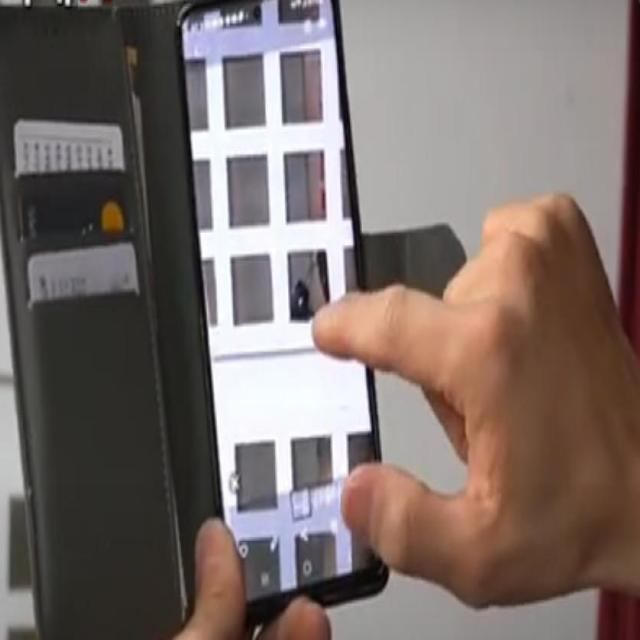hidden camera: (292, 281, 311, 320)
